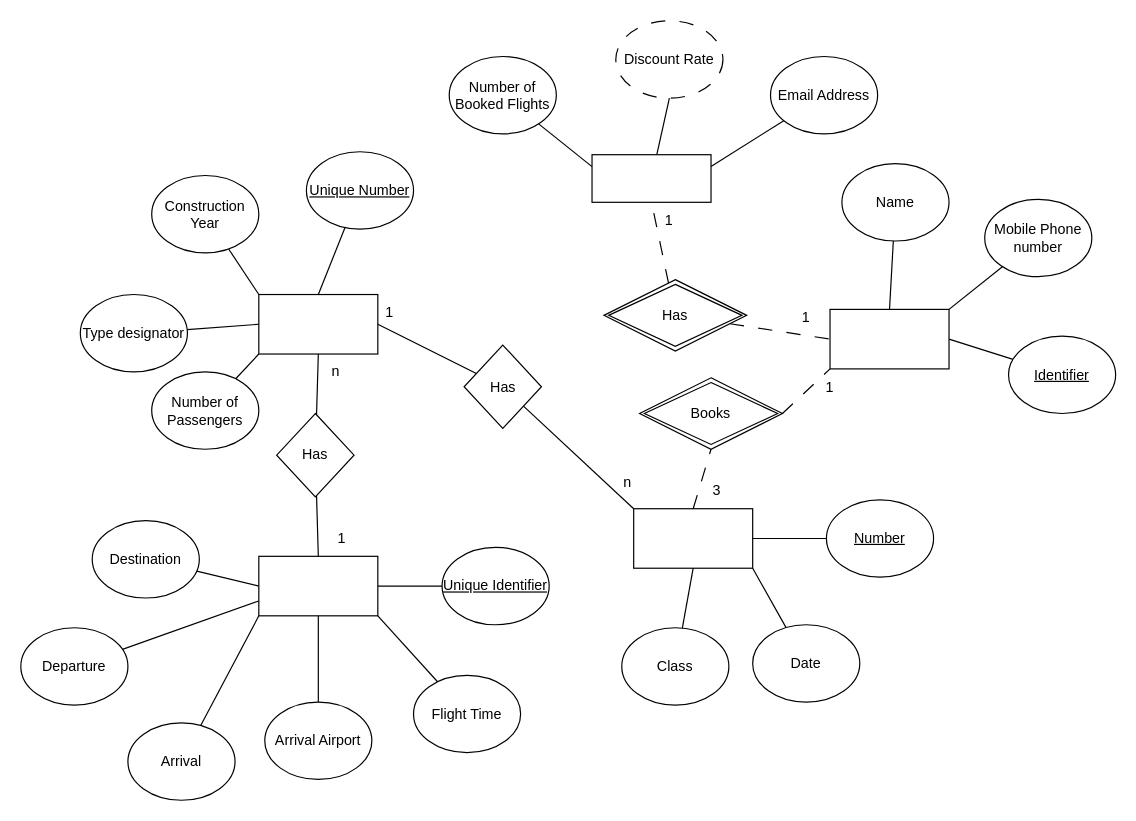
Some shapes in this 1136 by 821 pixel diagram are drawn without their labels. Each missing label, with the centre of its shape:
Account: (651,178)
Aircraft: (318,323)
Client: (889,338)
Flight: (318,585)
Seat: (692,538)
